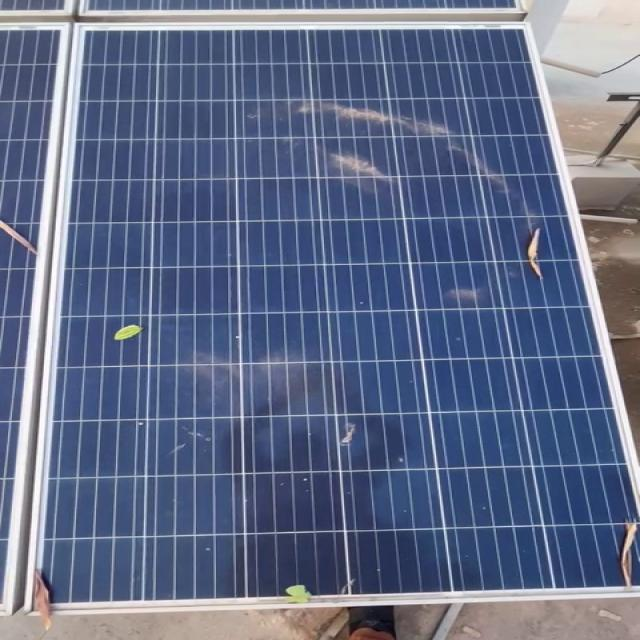bird_dropping: (318, 422, 390, 454)
dust_partical: (258, 94, 470, 206), (125, 353, 327, 411)
old_leaf: (18, 560, 87, 632), (515, 225, 562, 292), (0, 215, 50, 256), (608, 525, 640, 587), (278, 583, 345, 607), (107, 310, 153, 340)
